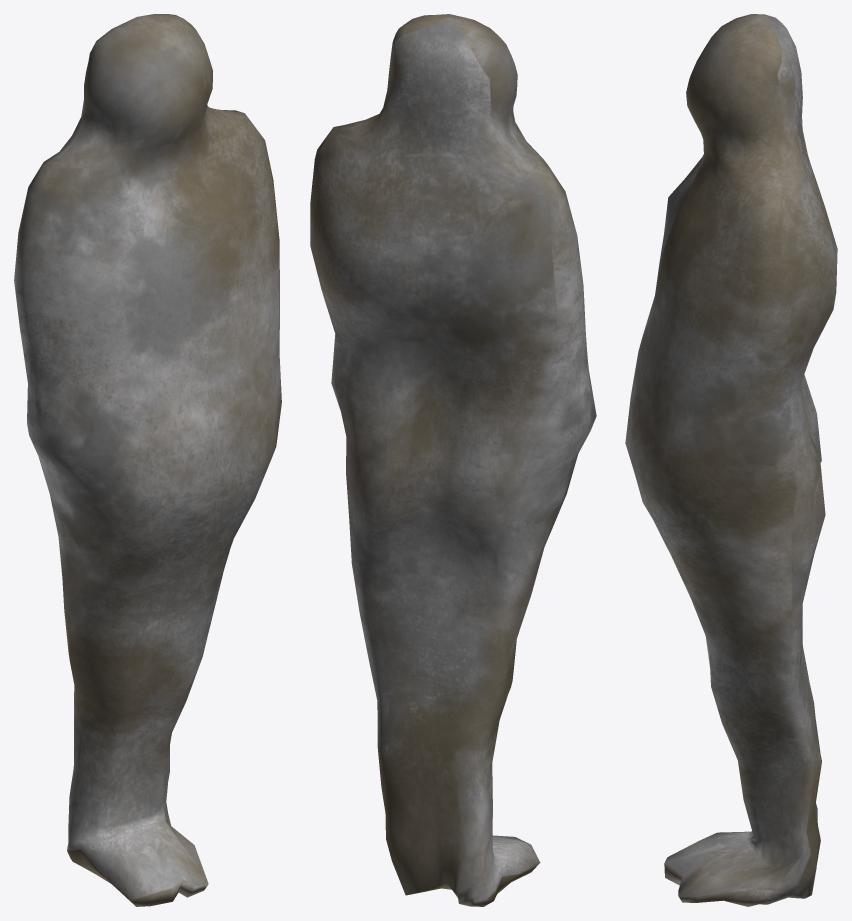
Rendered from Deadbody_Stand.fbx.
The picture shows the model from 3 angles, left to right: view 1: azimuth 30°, elevation 25°; view 2: azimuth 150°, elevation 25°; view 3: azimuth 270°, elevation 25°; orthographic projection. The views are drawn at different scales.
Visible parts, largest first — view 1: Deadbody_Stand; view 2: Deadbody_Stand; view 3: Deadbody_Stand.
Part boxes in pixels (left/top/right/bottom): Deadbody_Stand: left=14, top=14, right=281, bottom=906; Deadbody_Stand: left=310, top=14, right=596, bottom=906; Deadbody_Stand: left=625, top=14, right=837, bottom=906.
Size of the model in its own units: 2.85 by 9.14 by 2.
